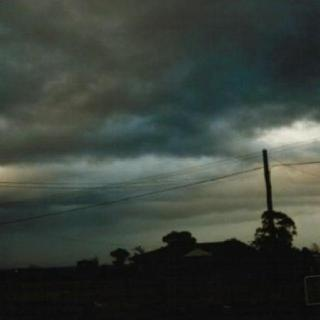Stratocumulus: (0, 0, 320, 206)
